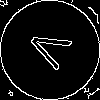V: (25, 25, 80, 75)
